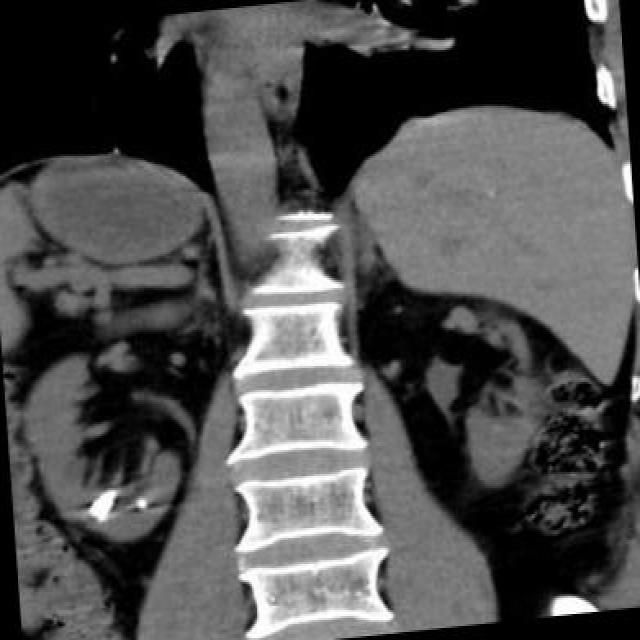Tas_Var: (85, 485, 118, 529), (135, 495, 147, 515)
